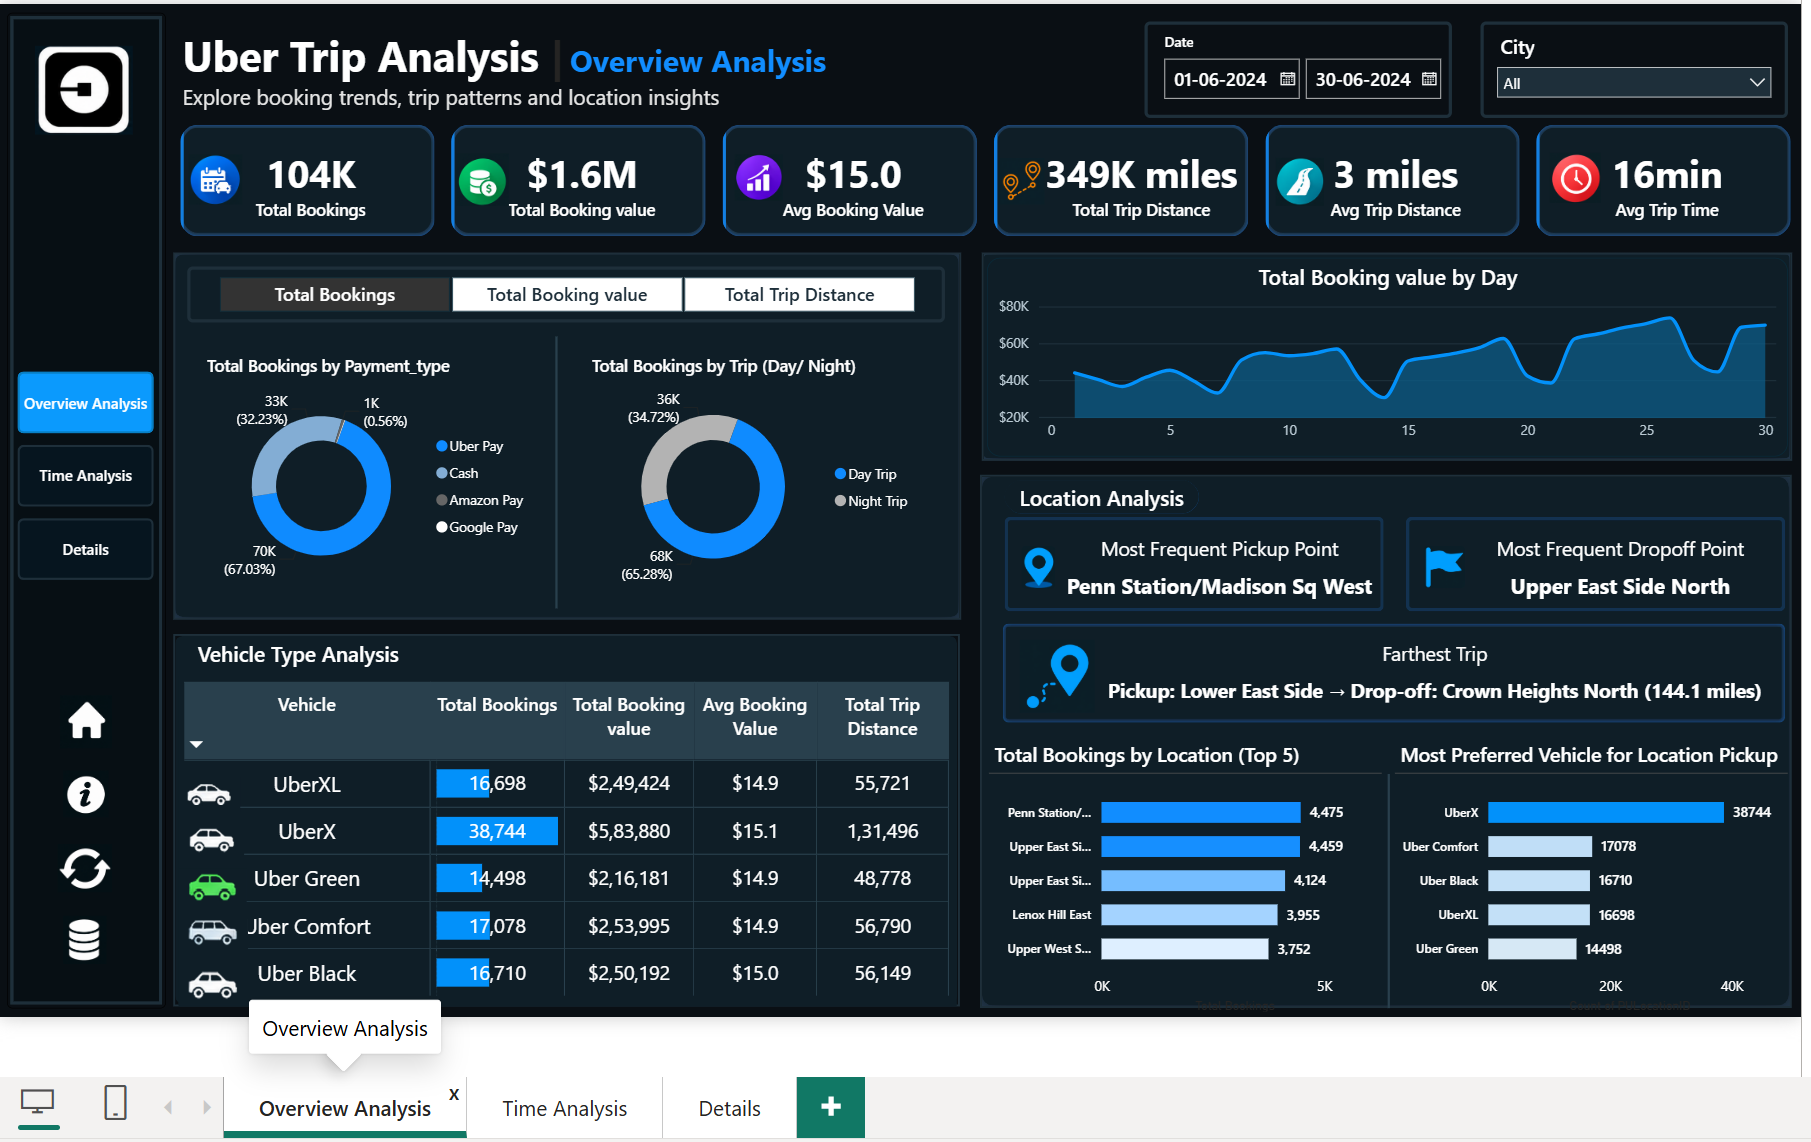

Layout of this report page (visuals, bound fields, positions):
{"tool":"powerbi","page":{"name":"Overview Analysis","canvas":[1600,900],"ordinal":0},"visuals":[{"type":"shape","box":[154,220,700,326],"z":0},{"type":"shape","box":[5.6,7.4,141.2,884.4],"z":1000},{"type":"textbox","box":[157,15.5,685.6,90.2],"z":2000},{"type":"cardVisual","fields":{"Data":["Trip Details.Total Bookings","Trip Details.Total Booking value","Trip Details.Avg Booking Amount","Trip Details.Total Trip Distance","Trip Details.Avg Trip Distance","Trip Details.Avg Trip Time"]},"box":[154.2,100.3,1445.5,111.5],"z":3000},{"type":"image","box":[405,131.9,46.5,48.3],"z":4000},{"type":"image","box":[163.5,133.8,55.7,44.6],"z":5000},{"type":"image","box":[644.7,133.8,57.6,40.9],"z":6000},{"type":"image","box":[1133.4,133.8,42.7,48.3],"z":7000},{"type":"image","box":[1374.9,131.9,50.2,44.6],"z":8000},{"type":"image","box":[884.4,137.5,46.5,40.9],"z":9000},{"type":"slicer","fields":{"Values":["Dynamic Measure.Dynamic Measure"]},"box":[166.4,233.2,673.2,49.8],"z":10000},{"type":"donutChart","fields":{"Y":["Trip Details.Total Trip Distance Measure"],"Category":["Trip Details.Payment_type"]},"box":[178.8,310.9,300.1,214.5],"z":11000},{"type":"donutChart","fields":{"Y":["Trip Details.Total Trip Distance Measure"],"Category":["Trip Details.Trip (Day/ Night)"]},"box":[520.8,310.9,300.1,216.1],"z":12000},{"type":"shape","box":[154.2,559.3,698.6,330.7],"z":13000},{"type":"pivotTable","fields":{"Rows":["Trip Details.Vehicle"],"Values":["Trip Details.Total Bookings","Trip Details.Total Booking value","Trip Details.Avg Booking Value","Trip Details.Total Trip Distance Measure"]},"box":[157.9,596.4,691.2,293.6],"z":14000},{"type":"image","box":[157.8,683.3,55,36.7],"z":15000},{"type":"image","box":[157.8,728.3,60,31.7],"z":16000},{"type":"image","box":[157.8,768.3,61.7,33.3],"z":17000},{"type":"image","box":[157.8,806.7,61.7,36.7],"z":18000},{"type":"image","box":[157.8,853.3,61.7,36.7],"z":19000},{"type":"cardVisual","fields":{"Data":["Trip Details.Grid title"]},"box":[156.1,553.7,219.2,46.5],"z":20000},{"type":"shape","box":[871.7,220,720,185],"z":21000},{"type":"areaChart","fields":{"Category":["Calendar table.Date.Variation.Date Hierarchy.Day"],"Y":["Trip Details.Total Booking value"]},"box":[876.7,225,711.7,176.7],"z":22000},{"type":"shape","box":[871.4,418.1,720.9,473.8],"z":23000},{"type":"cardVisual","fields":{"Data":["Trip Details.Most Frequent Pickup Point","Trip Details.Most Frequent Dropoff Point"]},"box":[886.3,449.6,707.9,96.6],"z":24000},{"type":"cardVisual","fields":{"Data":["Trip Details.Farthest Trip"]},"box":[884.4,544.4,707.9,100.3],"z":25000},{"type":"barChart","title":"Total Bookings by Location (Top 5)","fields":{"Y":["Trip Details.Total Bookings"],"Category":["Location Table.Location"]},"box":[878.8,654,349.3,245.3],"z":26000},{"type":"barChart","title":"Most Preferred Vehicle for Location Pickup","fields":{"Category":["Trip Details.Vehicle"],"Y":["CountNonNull(Trip Details.PULocationID)"]},"box":[1239.3,654,349.3,245.3],"z":27000},{"type":"shape","box":[484.9,295.4,18.6,241.5],"z":28000},{"type":"shape","box":[1228.1,683.7,11.1,208.1],"z":29000},{"type":"cardVisual","fields":{"Data":["Trip Details.Location title"]},"box":[886.3,416.2,185.8,42.7],"z":30000},{"type":"slicer","fields":{"Values":["Calendar table.Date"]},"box":[1016.3,14.9,273.1,85.5],"z":31000},{"type":"slicer","fields":{"Values":["Location Table.City"]},"box":[1315.5,14.9,273.1,85.5],"z":32000},{"type":"image","box":[31.7,28.3,86.7,96.7],"z":33000},{"type":"pageNavigator","box":[15,326.7,121.7,185],"z":34000},{"type":"image","box":[38.3,613.3,75,47.4],"z":36000},{"type":"image","box":[39.4,745.5,72.9,43.1],"z":37000},{"type":"image","box":[38.3,680.9,75,41.7],"z":38000},{"type":"image","box":[39.4,810.2,72.9,43.1],"z":39000}]}

Visuals, with their boxes on the page's 1600x900 design canvas (x1, y1, x2, y2). These are canvas units, not pixel positions in the 1811x1142 screenshot, which may show the page scaled, cropped or inside an application window:
shape: <region>154, 220, 854, 546</region>
shape: <region>6, 7, 147, 892</region>
textbox: <region>157, 16, 843, 106</region>
cardVisual - Trip Details.Total Bookings x Trip Details.Total Booking value: <region>154, 100, 1600, 212</region>
image: <region>405, 132, 452, 180</region>
image: <region>164, 134, 219, 178</region>
image: <region>645, 134, 702, 175</region>
image: <region>1133, 134, 1176, 182</region>
image: <region>1375, 132, 1425, 176</region>
image: <region>884, 138, 931, 178</region>
slicer - Dynamic Measure.Dynamic Measure: <region>166, 233, 840, 283</region>
donutChart - Trip Details.Total Trip Distance Measure x Trip Details.Payment_type: <region>179, 311, 479, 525</region>
donutChart - Trip Details.Total Trip Distance Measure x Trip Details.Trip (Day/ Night): <region>521, 311, 821, 527</region>
shape: <region>154, 559, 853, 890</region>
pivotTable - Trip Details.Vehicle x Trip Details.Total Bookings: <region>158, 596, 849, 890</region>
image: <region>158, 683, 213, 720</region>
image: <region>158, 728, 218, 760</region>
image: <region>158, 768, 220, 802</region>
image: <region>158, 807, 220, 843</region>
image: <region>158, 853, 220, 890</region>
cardVisual - Trip Details.Grid title: <region>156, 554, 375, 600</region>
shape: <region>872, 220, 1592, 405</region>
areaChart - Calendar table.Date.Variation.Date Hierarchy.Day x Trip Details.Total Booking value: <region>877, 225, 1588, 402</region>
shape: <region>871, 418, 1592, 892</region>
cardVisual - Trip Details.Most Frequent Pickup Point x Trip Details.Most Frequent Dropoff Point: <region>886, 450, 1594, 546</region>
cardVisual - Trip Details.Farthest Trip: <region>884, 544, 1592, 645</region>
"Total Bookings by Location (Top 5)" barChart: <region>879, 654, 1228, 899</region>
"Most Preferred Vehicle for Location Pickup" barChart: <region>1239, 654, 1589, 899</region>
shape: <region>485, 295, 504, 537</region>
shape: <region>1228, 684, 1239, 892</region>
cardVisual - Trip Details.Location title: <region>886, 416, 1072, 459</region>
slicer - Calendar table.Date: <region>1016, 15, 1289, 100</region>
slicer - Location Table.City: <region>1316, 15, 1589, 100</region>
image: <region>32, 28, 118, 125</region>
pageNavigator: <region>15, 327, 137, 512</region>
image: <region>38, 613, 113, 661</region>
image: <region>39, 746, 112, 789</region>
image: <region>38, 681, 113, 723</region>
image: <region>39, 810, 112, 853</region>
